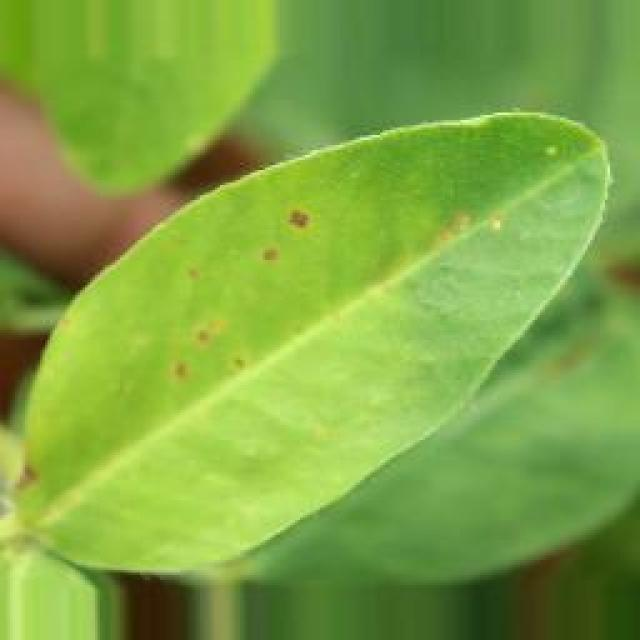Sigatoka: (139, 296, 268, 396), (240, 194, 344, 282), (1, 424, 90, 522), (431, 188, 522, 272), (158, 247, 213, 302)
